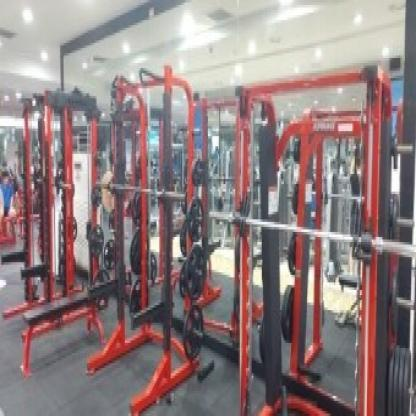smith machine: (232, 65, 391, 416), (85, 63, 207, 416), (16, 86, 102, 280)
